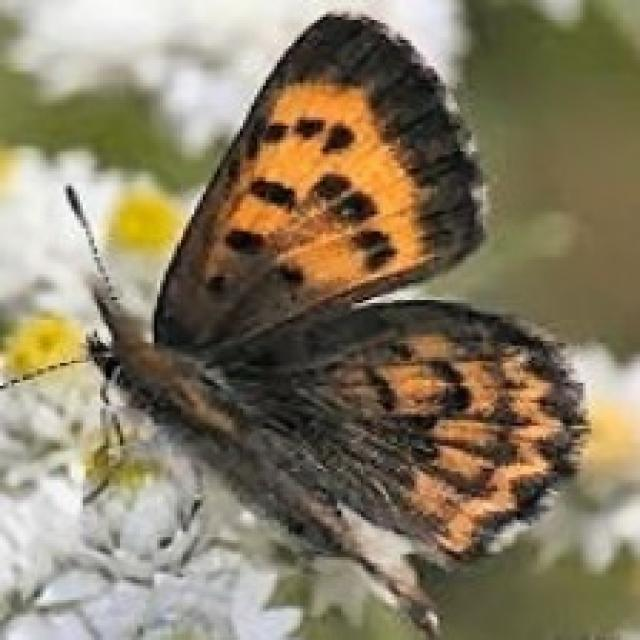butterfly: (0, 5, 591, 637)
